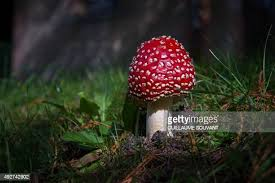Amanita muscaria: (119, 32, 197, 137)
